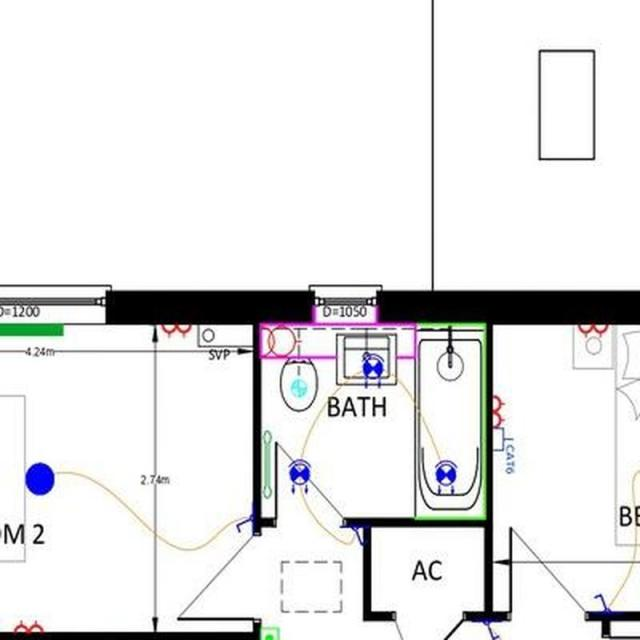Cat 6 Data Socket: (491, 427, 516, 476)
Ceiling Mounted Continuous Extract FanWith Boost Mode Activated By Light Switch: (290, 378, 306, 396)
Double Socket: (577, 323, 609, 338), (491, 394, 505, 427), (160, 324, 191, 338), (14, 618, 43, 632)
Full Height Tiling: (416, 324, 486, 518)
Light Switch: (481, 620, 503, 638), (593, 594, 612, 611), (237, 513, 251, 533), (349, 528, 362, 546)
Low Energy Downlighter: (433, 460, 457, 494), (360, 354, 384, 387), (288, 458, 310, 494)
Low Energy Pendant Light: (26, 462, 54, 495)
Programmable Room Thermostat: (262, 626, 278, 640)
Radiator: (0, 322, 62, 336)
Shaver Socket: (258, 326, 301, 355)
